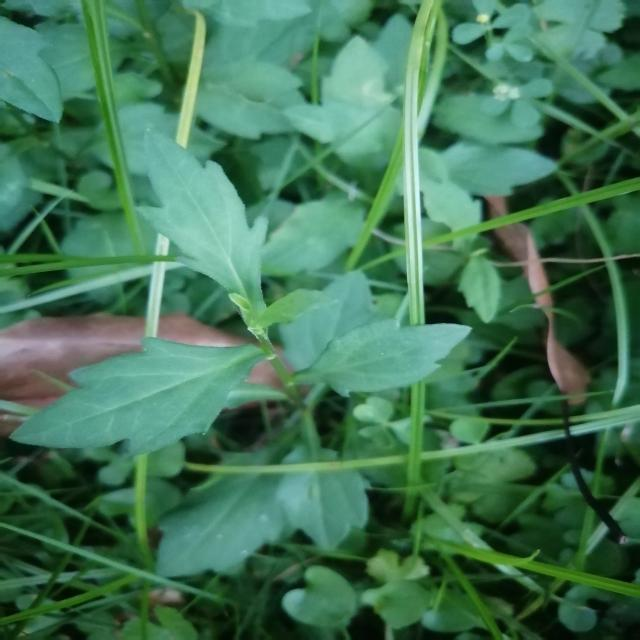Indian aster: (88, 174, 429, 534)
